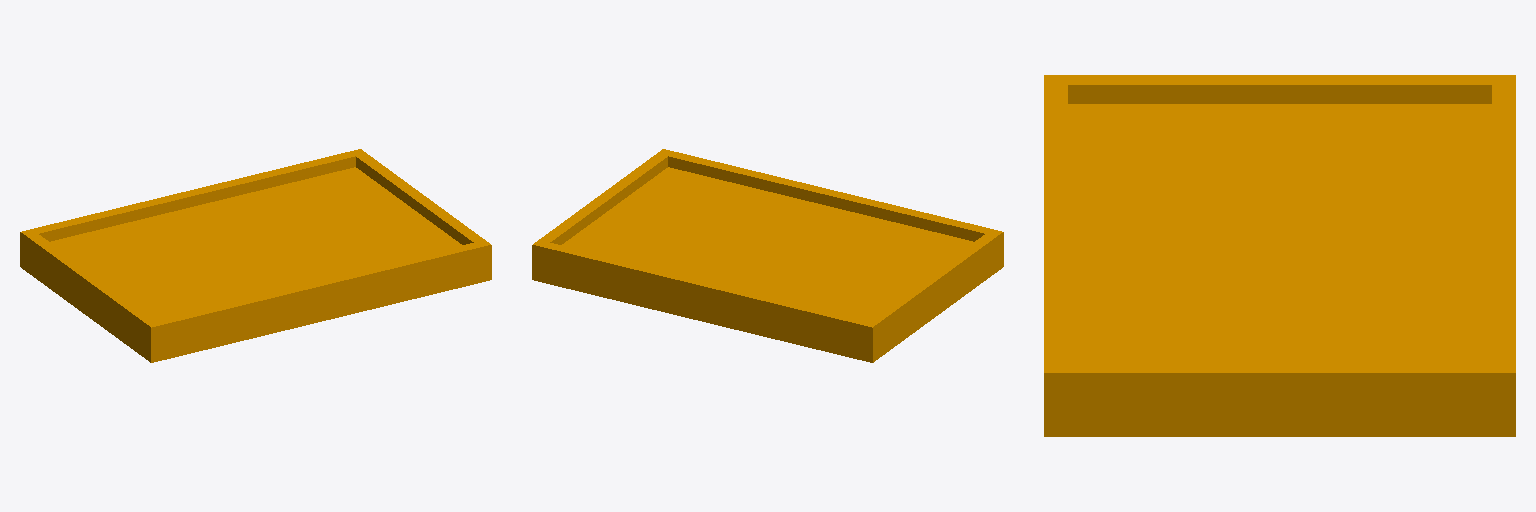
robot.urdf — gear_plate:
<?xml version="1.0"?>
<robot name="gear_plate">
  <link name="base_link">
    <!-- visual model -->
    <visual>
      <origin xyz="0 0.095 0.015"/>
      <geometry>
        <box size=".3 .01 0.03"/>
      </geometry>
    </visual>
    <visual>
      <origin xyz="0 -0.095 0.015"/>
      <geometry>
        <box size=".3 .01 0.03"/>
      </geometry>
    </visual>
    <visual>
      <origin xyz="0.145 0 0.015"/>
      <geometry>
        <box size=".01 .18 0.03"/>
      </geometry>
    </visual>
    <visual>
      <origin xyz="-0.145 0 0.015"/>
      <geometry>
        <box size=".01 .18 0.03"/>
      </geometry>
    </visual>
    <visual>
      <origin xyz="0 0 0.0105"/>
      <geometry>
        <box size=".28 .18 0.021"/>
      </geometry>
    </visual>
    <!-- collision model -->
    <collision>
      <origin xyz="0 0.095 0.015"/>
      <geometry>
        <box size=".3 .01 0.03"/>
      </geometry>
    </collision>
    <collision>
      <origin xyz="0 -0.095 0.015"/>
      <geometry>
        <box size=".3 .01 0.03"/>
      </geometry>
    </collision>
    <collision>
      <origin xyz="0.145 0 0.015"/>
      <geometry>
        <box size=".01 .18 0.03"/>
      </geometry>
    </collision>
    <collision>
      <origin xyz="-0.145 0 0.015"/>
      <geometry>
        <box size=".01 .18 0.03"/>
      </geometry>
    </collision>
    <collision>
      <origin xyz="0 0 0.0105"/>
      <geometry>
        <box size=".28 .18 0.021"/>
      </geometry>
    </collision>
  </link>
</robot>

--- Facts derived from the render (not from the file) ---
Views: 3 orthographic renders of the robot side by side, from view 1: azimuth 30°, elevation 25°; view 2: azimuth 150°, elevation 25°; view 3: azimuth 270°, elevation 25°.
Model gear_plate with 1 links and 0 joints (none), rooted at base_link, posed all joints at 0.
Visible links, largest first — view 1: base_link; view 2: base_link; view 3: base_link.
Link boxes in pixels (x1,y1,x2,y2): base_link: (20,149,491,362); base_link: (532,149,1003,362); base_link: (1044,75,1515,436).
Size in the robot's own frame: 0.3 by 0.2 by 0.03 metres.
Geometry: primitives only (box / cylinder / sphere), no mesh files.
